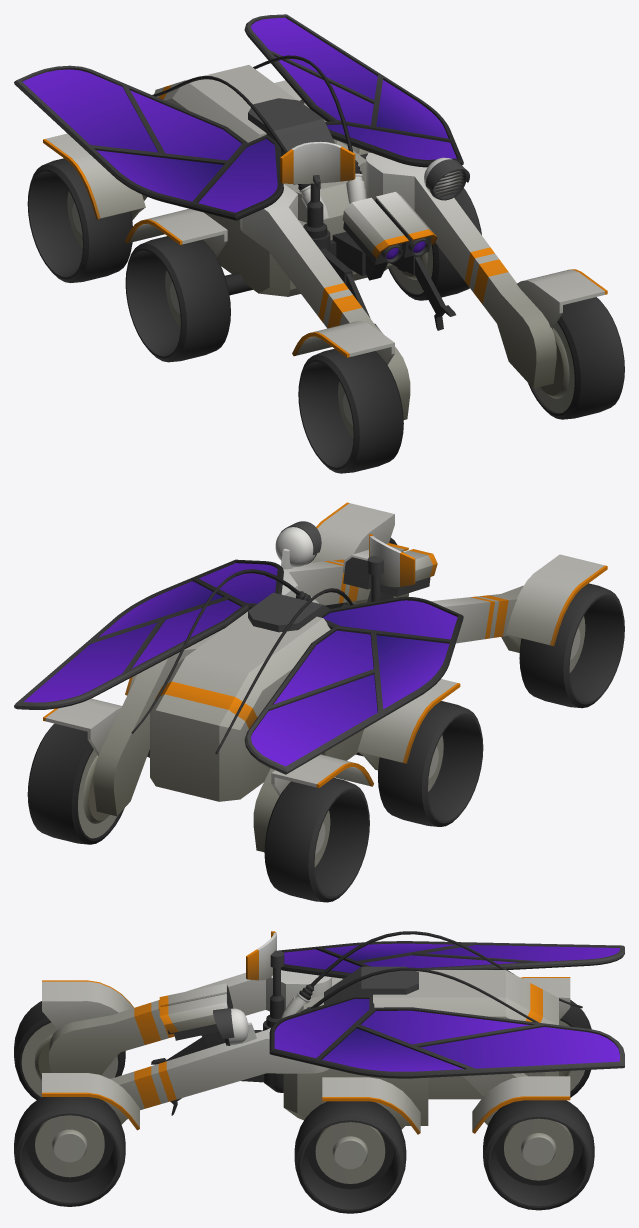
The model's file is SM_Rover.fbx.
The picture shows the model from 3 angles, top to bottom: view 1: azimuth 30°, elevation 25°; view 2: azimuth 150°, elevation 25°; view 3: azimuth 270°, elevation 25°; orthographic projection. The views are drawn at different scales.
Parts seen in each view (by area): view 1: Cube.009, Cube.002, Cylinder, Cylinder.001, Cylinder.002, Cube, Plane, Cube.004, Cube.003, Plane.003, Plane.002, Plane.001 (+5 smaller); view 2: Cube.009, Cube.004, Cylinder.002, Cylinder.001, Cylinder, Plane, Cube.005, Cube.002, Plane.002, Plane.001, Cube, Cube.003 (+3 smaller); view 3: Cube.009, Cube.002, Cylinder, Cylinder.002, Cylinder.001, Cube.004, Plane, Cube, Plane.002, Cube.003, Plane.001, BezierCurve (+7 smaller).
Part boxes in pixels (bbox=[...]): Cube.009: bbox=[14, 14, 463, 220]; Cube.002: bbox=[240, 152, 556, 419]; Cylinder: bbox=[298, 297, 624, 473]; Cylinder.001: bbox=[125, 188, 481, 362]; Cylinder.002: bbox=[27, 153, 367, 282]; Cube: bbox=[204, 98, 392, 296]; Plane: bbox=[292, 269, 607, 364]; Cube.004: bbox=[154, 65, 336, 144]; Cube.003: bbox=[342, 191, 437, 264]; Plane.003: bbox=[280, 141, 355, 238]; Plane.002: bbox=[43, 80, 370, 220]; Plane.001: bbox=[125, 208, 227, 257]; Cube.009: bbox=[14, 559, 463, 774]; Cube.004: bbox=[150, 611, 330, 801]; Cylinder.002: bbox=[27, 723, 369, 902]; Cylinder.001: bbox=[147, 701, 483, 826]; Cylinder: bbox=[325, 538, 624, 708]; Plane: bbox=[310, 502, 607, 648]; Cube.005: bbox=[93, 631, 321, 851]; Cube.002: bbox=[281, 559, 523, 652]; Plane.002: bbox=[43, 698, 373, 796]; Plane.001: bbox=[125, 629, 460, 770]; Cube: bbox=[248, 592, 364, 760]; Cube.003: bbox=[342, 543, 437, 596]; Cube.009: bbox=[269, 941, 624, 1078]; Cube.002: bbox=[49, 970, 331, 1110]; Cylinder: bbox=[14, 1001, 125, 1206]; Cylinder.002: bbox=[483, 1000, 594, 1210]; Cylinder.001: bbox=[294, 1101, 406, 1213]; Cube.004: bbox=[373, 970, 558, 1099]; Plane: bbox=[42, 980, 139, 1130]; Cube: bbox=[283, 966, 428, 1125]; Plane.002: bbox=[472, 977, 570, 1133]; Cube.003: bbox=[159, 983, 232, 1040]; Plane.001: bbox=[322, 977, 420, 1134]; BezierCurve: bbox=[310, 931, 582, 1022].
Size of the model in its own units: 141 by 98.95 by 272.
